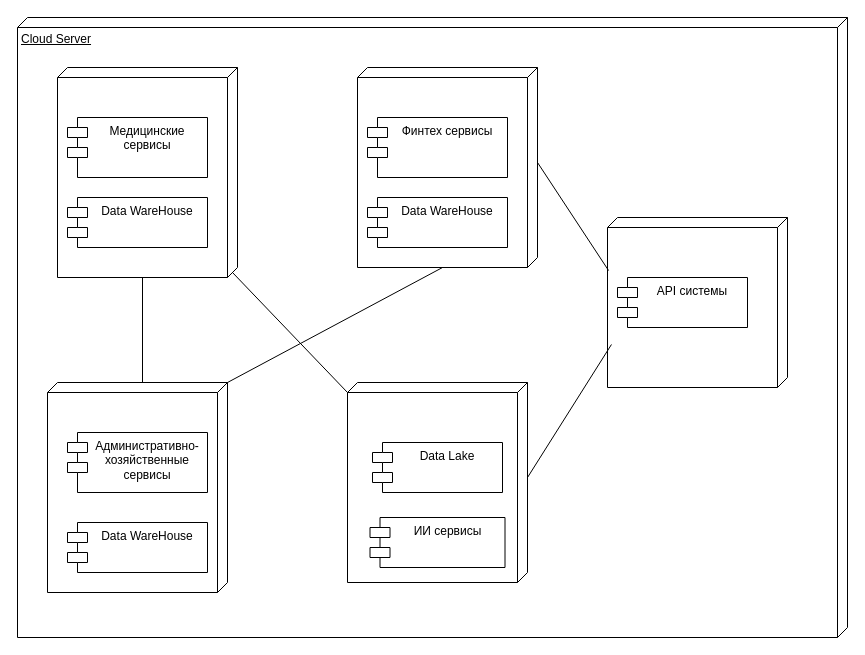
Image size: 865x655. Some labels were removed from this diagram. Each missing label, with the box of its shape:
Партнерский доступ: (606, 216, 788, 388)
Сервер административно-хозяйственных услуг: (46, 382, 228, 592)
Сервер ИИ аналитики: (346, 382, 528, 582)
Сервер медицинских услгу: (56, 66, 238, 278)
Сервер финтех услуг: (356, 66, 538, 268)
